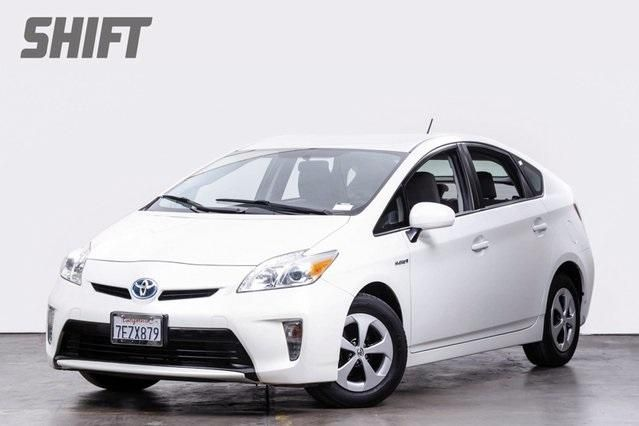Toyota Prius: (43, 132, 596, 412)
